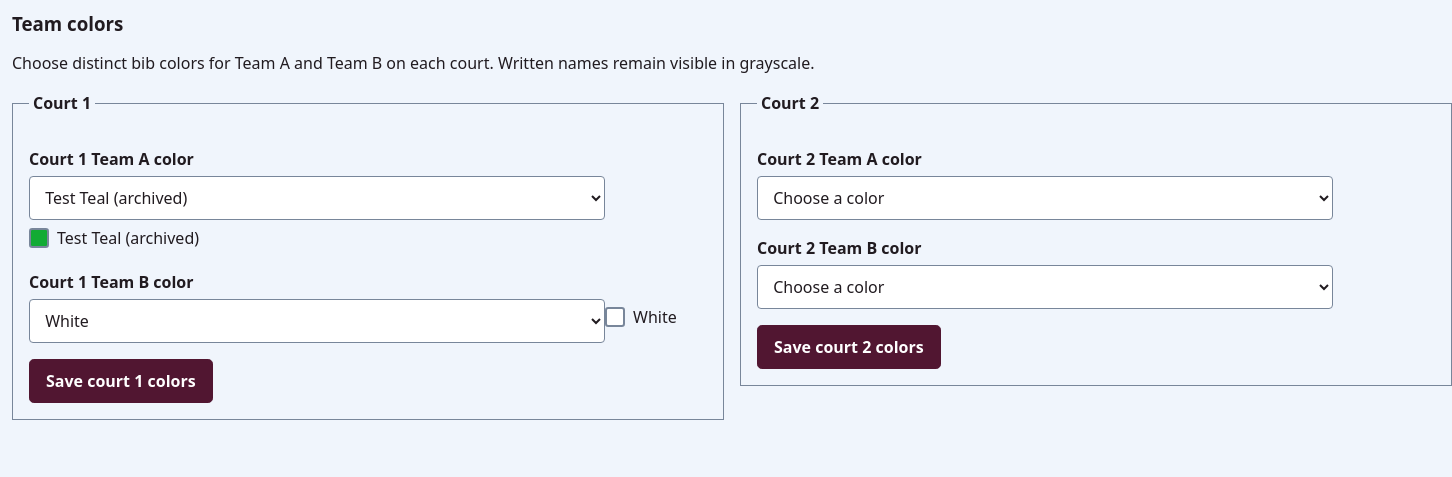
Test: EventCourtColors › rejects duplicate team colors and keeps an archived assigned color visible
Check: the dropdown labelled "Court 1 Team A color" shows "Test Teal (archived)", box [29,176,605,220]
Select "White" in the dropdown labelled "Court 2 Team A color". click: (1045, 198)
box: [757,176,1333,220]
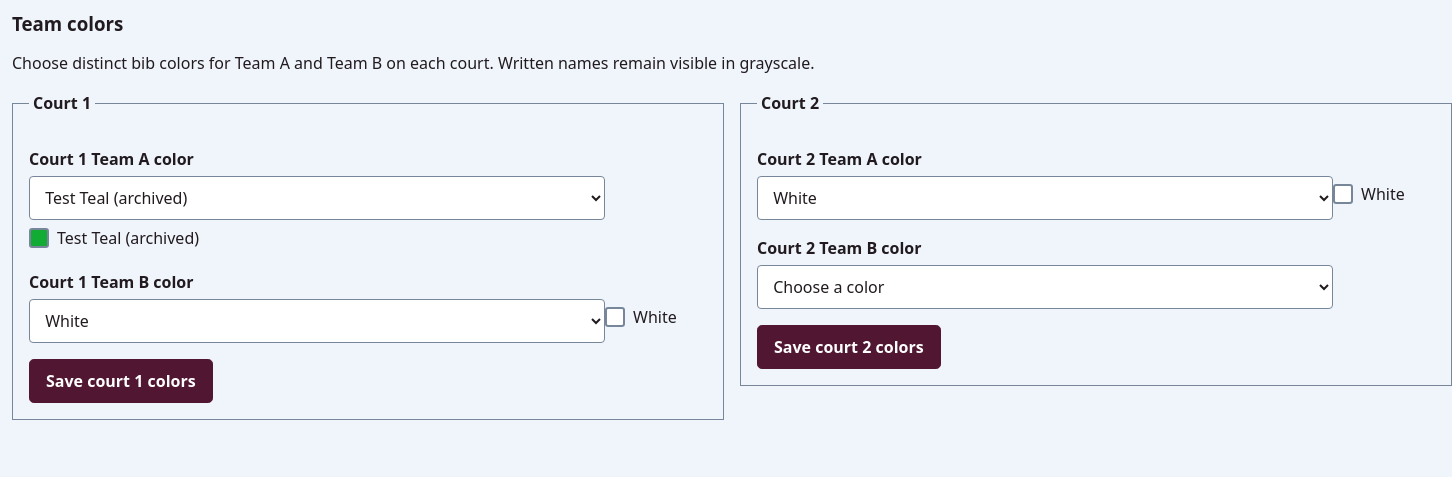
Select "White" in the dropdown labelled "Court 2 Team B color". click: (1045, 287)
box: [757,265,1333,309]
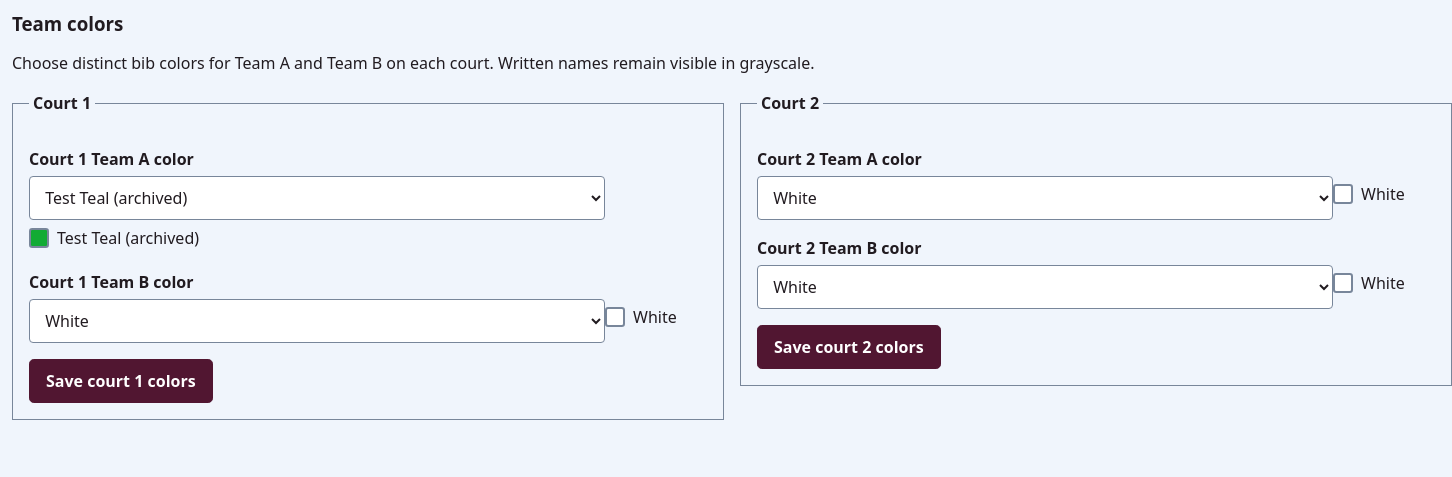
Click the button "Save court 2 colors". click: (849, 347)
box: [757,325,941,369]
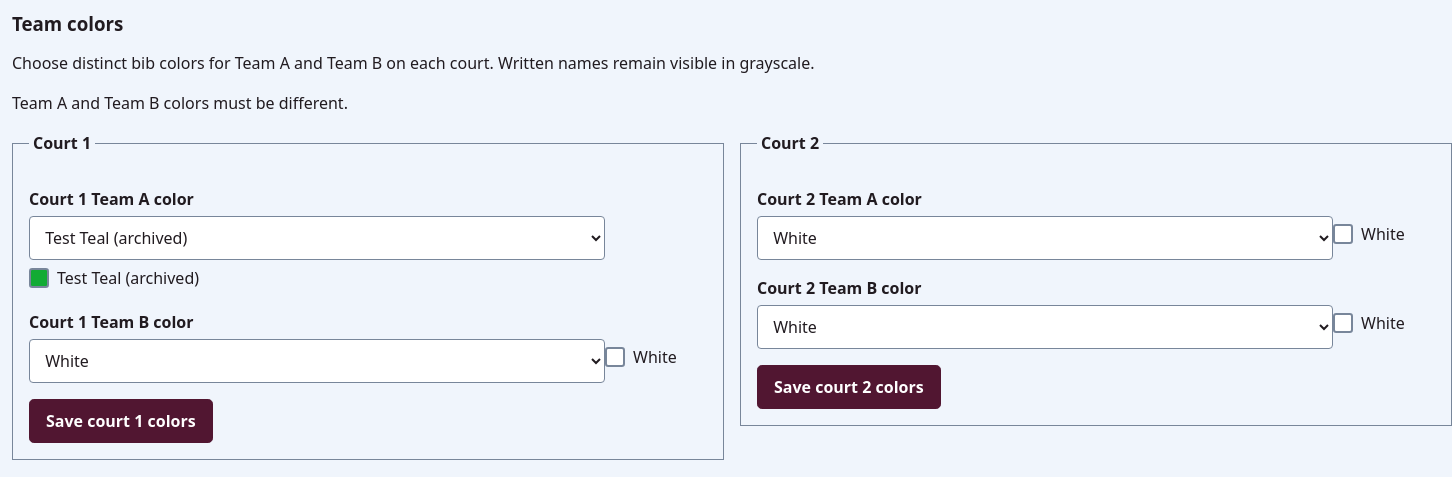
Check: the message shows "Team A and Team B colors must be different", box [12,92,348,114]
